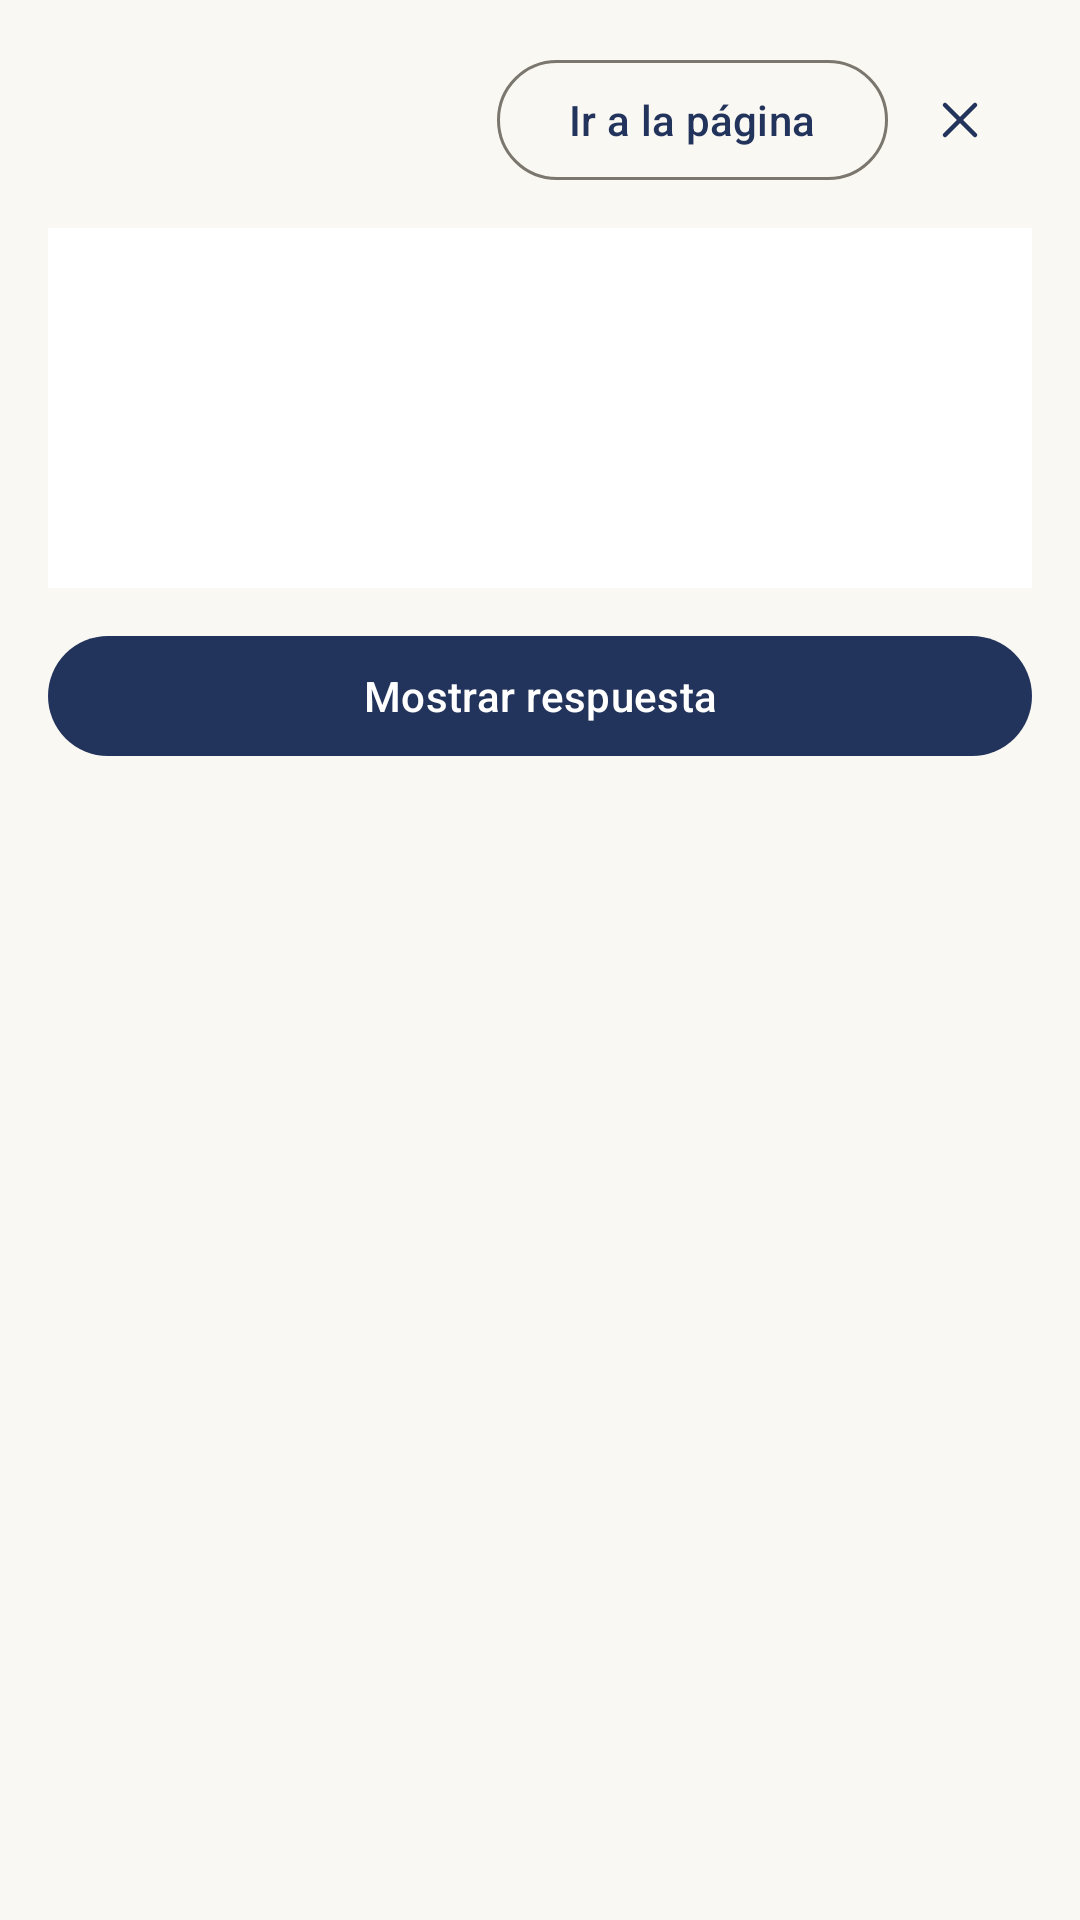

Where icons sit on this 1080px x 1920px app screen, as (x1, y1, x2, y2):
Cerrar: (942, 102, 978, 138)
